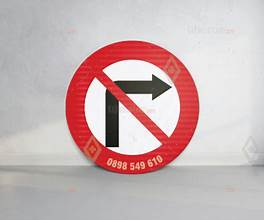No_turn_right: (64, 40, 202, 175)
